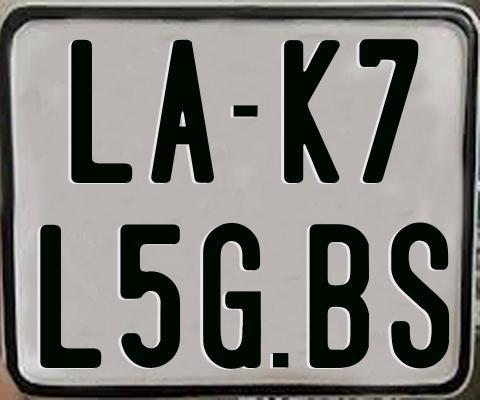5: (118, 223, 182, 373)
7: (359, 36, 422, 181)
A: (150, 39, 214, 182)
B: (310, 221, 371, 365)
G: (203, 223, 261, 372)
K: (281, 38, 341, 181)
L: (68, 40, 135, 184), (37, 224, 99, 373)
S: (389, 222, 447, 374)
